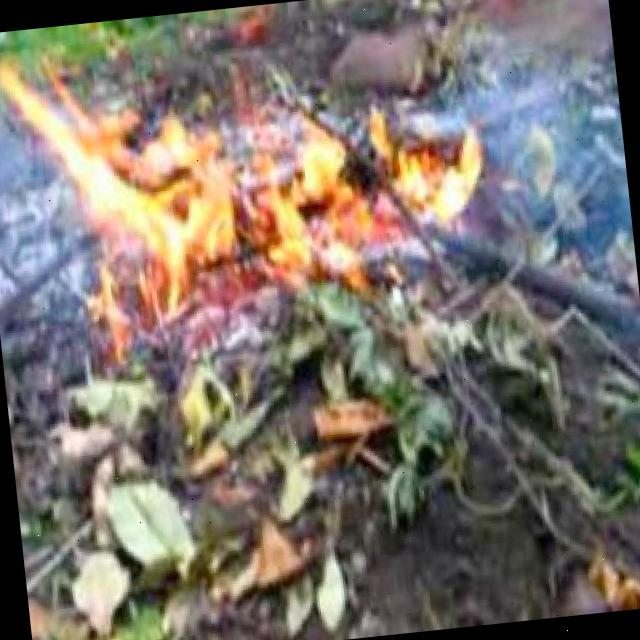fire: (40, 37, 288, 320), (232, 111, 496, 286)
